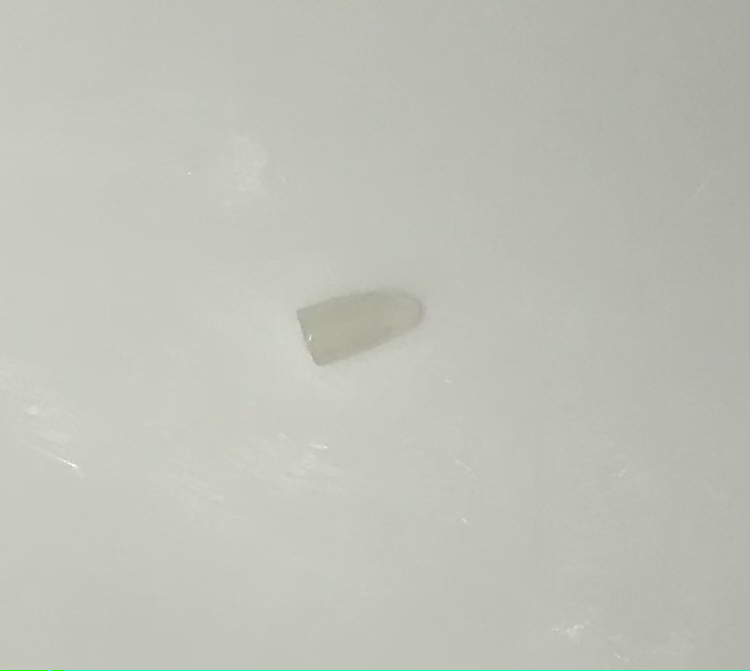Gao Tam: (280, 260, 444, 396)
